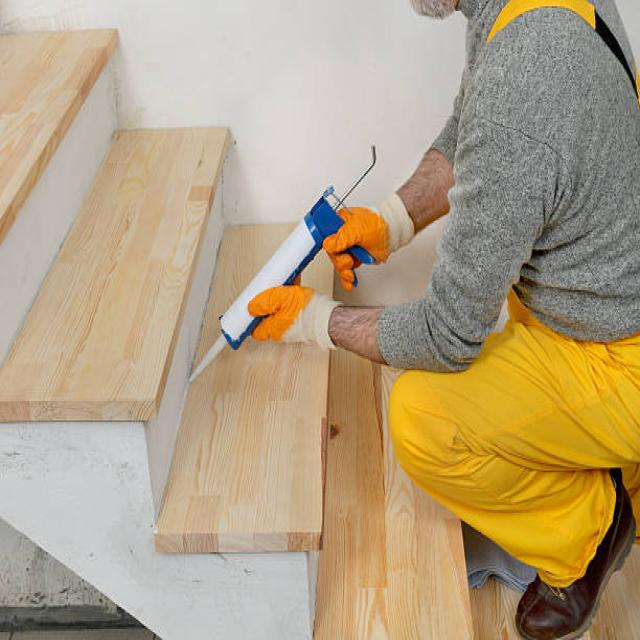gloves: (323, 193, 418, 290), (247, 276, 343, 350)
